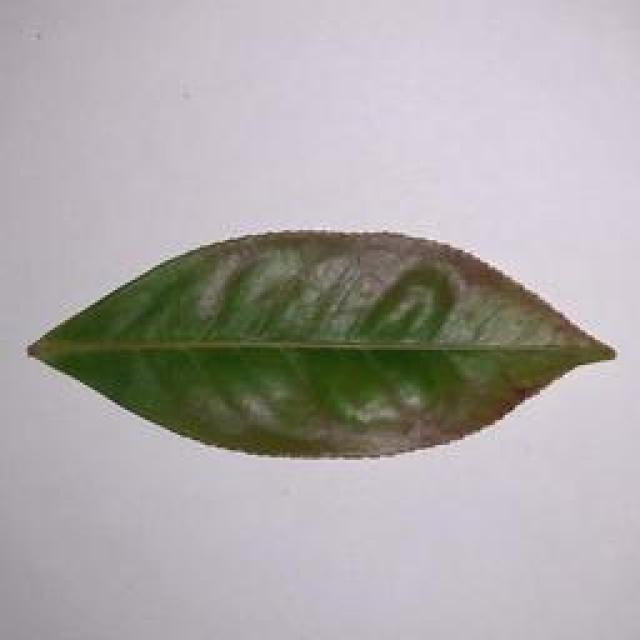Red Leaf Spot: (26, 224, 618, 461)
